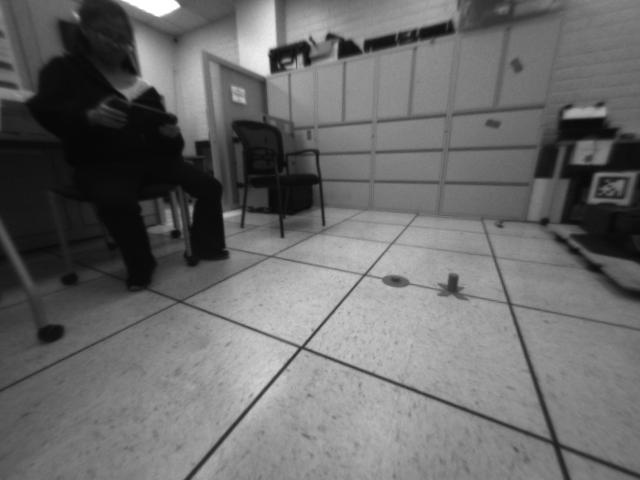X: (435, 271, 471, 302)
